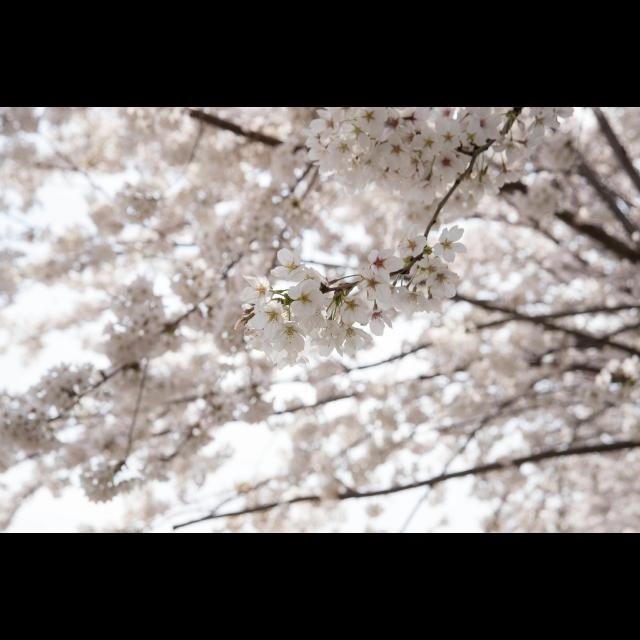Flower: (1, 108, 640, 532), (255, 240, 351, 372)
